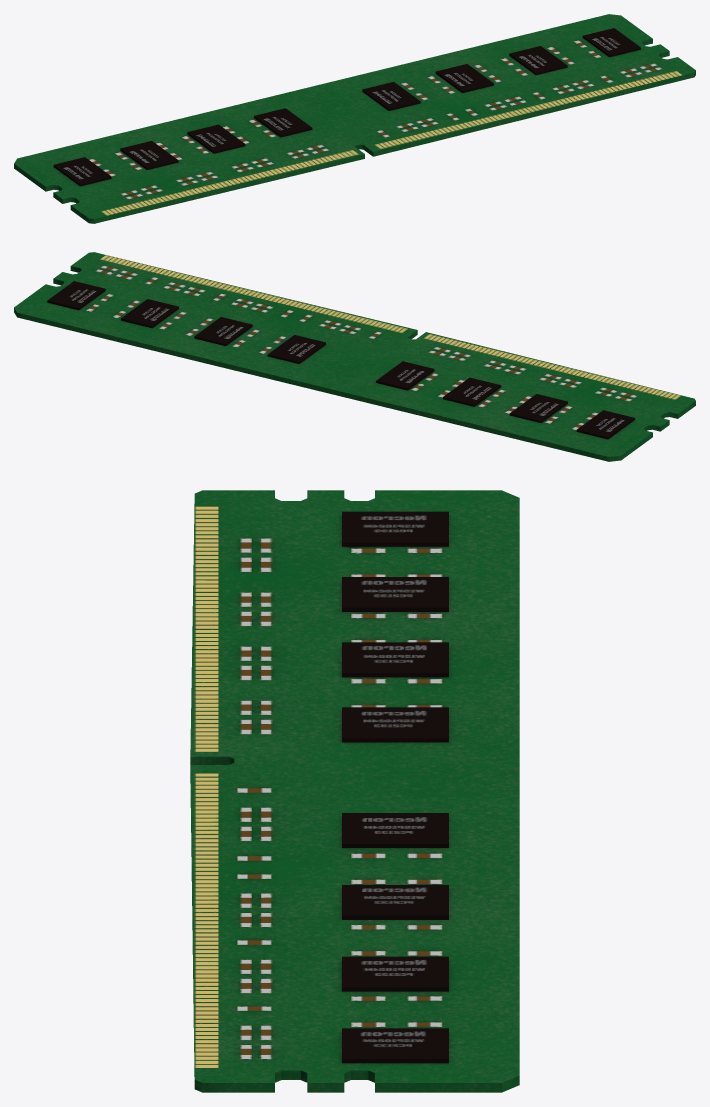
The picture shows the model from 3 angles, top to bottom: view 1: azimuth 30°, elevation 25°; view 2: azimuth 150°, elevation 25°; view 3: azimuth 270°, elevation 25°; orthographic projection. The views are drawn at different scales.
Visible parts, largest first — view 1: RAM_LP; view 2: RAM_LP; view 3: RAM_LP.
Boxes of the visible parts, box(x1,y1,x2,y2) form: RAM_LP: box(14, 14, 695, 223); RAM_LP: box(14, 252, 695, 461); RAM_LP: box(190, 490, 519, 1092).
Bounding box in the file's own units: 32.6 × 0.4604 × 7.66.
